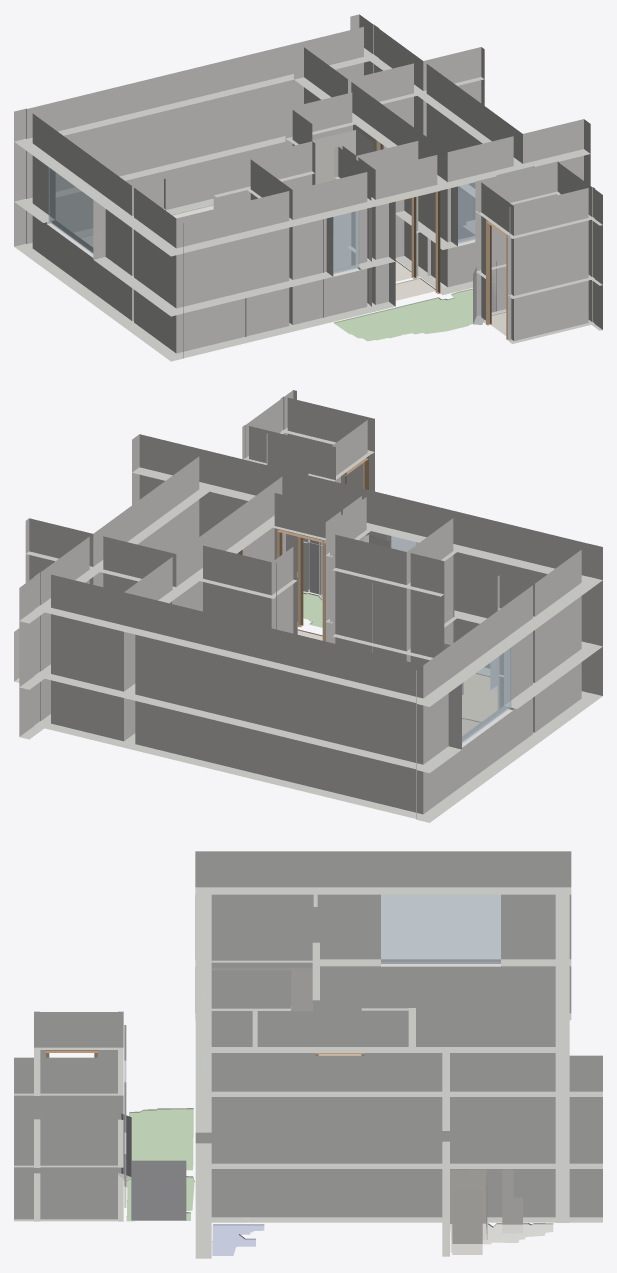
The picture shows the model from 3 angles, top to bottom: view 1: azimuth 30°, elevation 25°; view 2: azimuth 150°, elevation 25°; view 3: azimuth 270°, elevation 25°; orthographic projection. The views are drawn at different scales.
Parts seen in each view (by area): view 1: walls, floor_9_Outdoor, window_0, furniture_0_closet, window_2, furniture_2_closet, window_6, door_7, door_1, floor_7_Entry, railings, door_3; view 2: walls, window_0, floor_4_Kitchen, railings, door_3, floor_9_Outdoor; view 3: walls, window_0, railings, floor_9_Outdoor, furniture_4_appliance, floor_10_Bed_Room, furniture_3_appliance, furniture_1_closet, floor_11_Undefined, furniture_10_toilet, sill_0.
Boxes of the visible parts, x1,y1,x2,y2 form: walls: (14,14,602,361); floor_9_Outdoor: (334,288,472,341); window_0: (48,161,99,257); furniture_0_closet: (312,130,373,184); window_2: (333,207,359,273); furniture_2_closet: (334,207,371,310); window_6: (454,182,475,243); door_7: (486,219,507,340); door_1: (396,191,440,293); floor_7_Entry: (395,278,435,300); railings: (473,261,496,324); door_3: (411,197,416,278); walls: (19,390,602,822); window_0: (455,648,511,744); floor_4_Kitchen: (462,673,497,721); railings: (309,540,322,598); door_3: (277,529,325,641); floor_9_Outdoor: (303,592,322,627); walls: (14,851,602,1258); window_0: (381,894,500,963); railings: (118,1113,186,1220); floor_9_Outdoor: (126,1108,194,1221); furniture_4_appliance: (452,1190,482,1254); floor_10_Bed_Room: (212,1224,264,1255); furniture_3_appliance: (450,1169,487,1240); furniture_1_closet: (211,968,312,1011); floor_11_Undefined: (450,1223,553,1252); furniture_10_toilet: (502,1197,522,1233); sill_0: (381,961,500,966).
Bounding box in the file's own units: 8.78 × 2.72 × 8.91.
